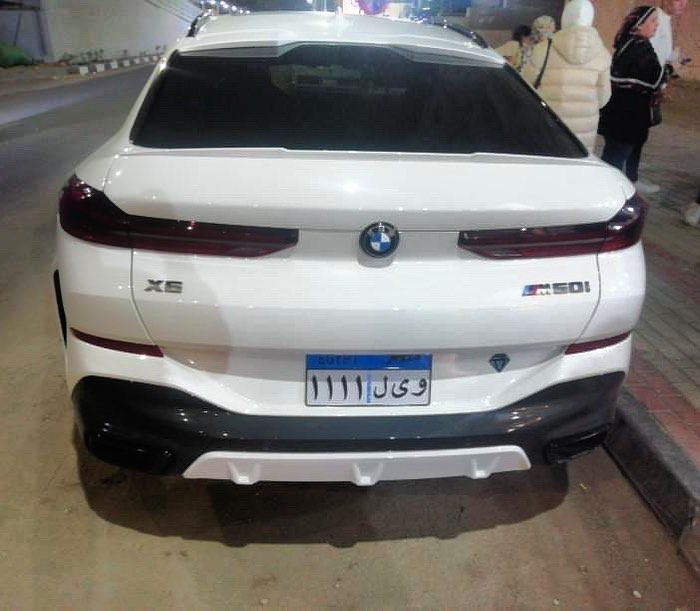carpl: (302, 355, 437, 409)
